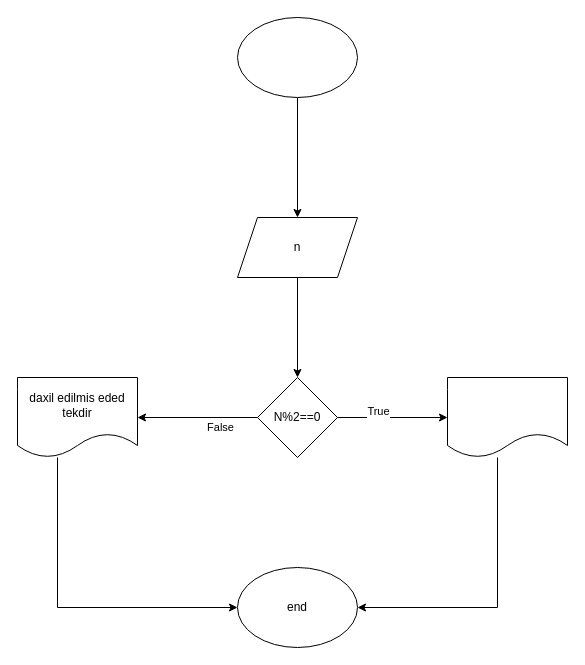
The diagram is 585 pixels wide and 665 high, and some of its shapes have lost their labels. Each missing label, with the box of its shape:
daxil edilmis eded cutdur: (446, 376, 568, 458)
Start: (236, 16, 358, 98)
